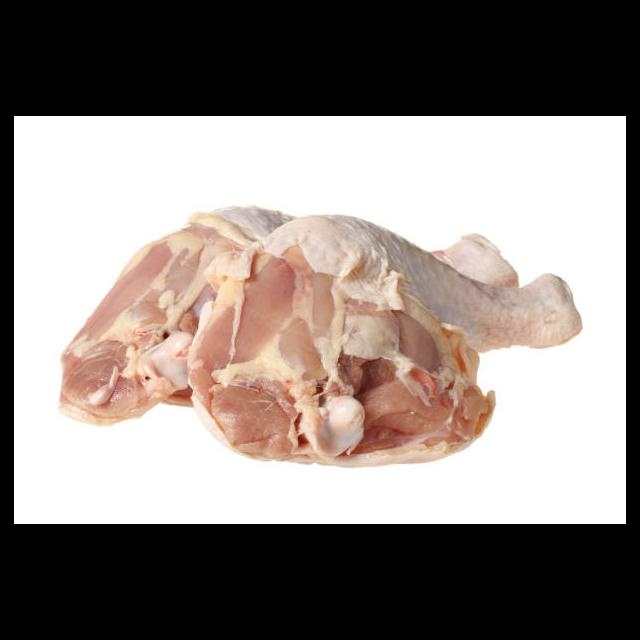chicken: (186, 214, 584, 466), (59, 208, 302, 425)
